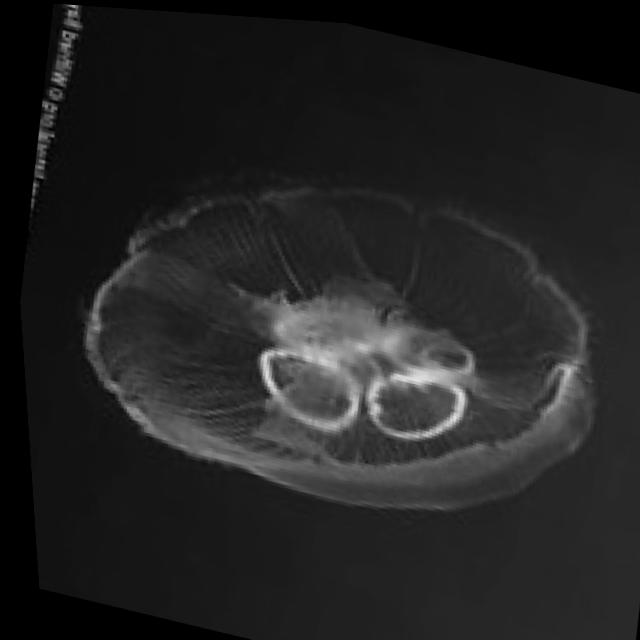Moon-jellyfish: (45, 114, 630, 557)
